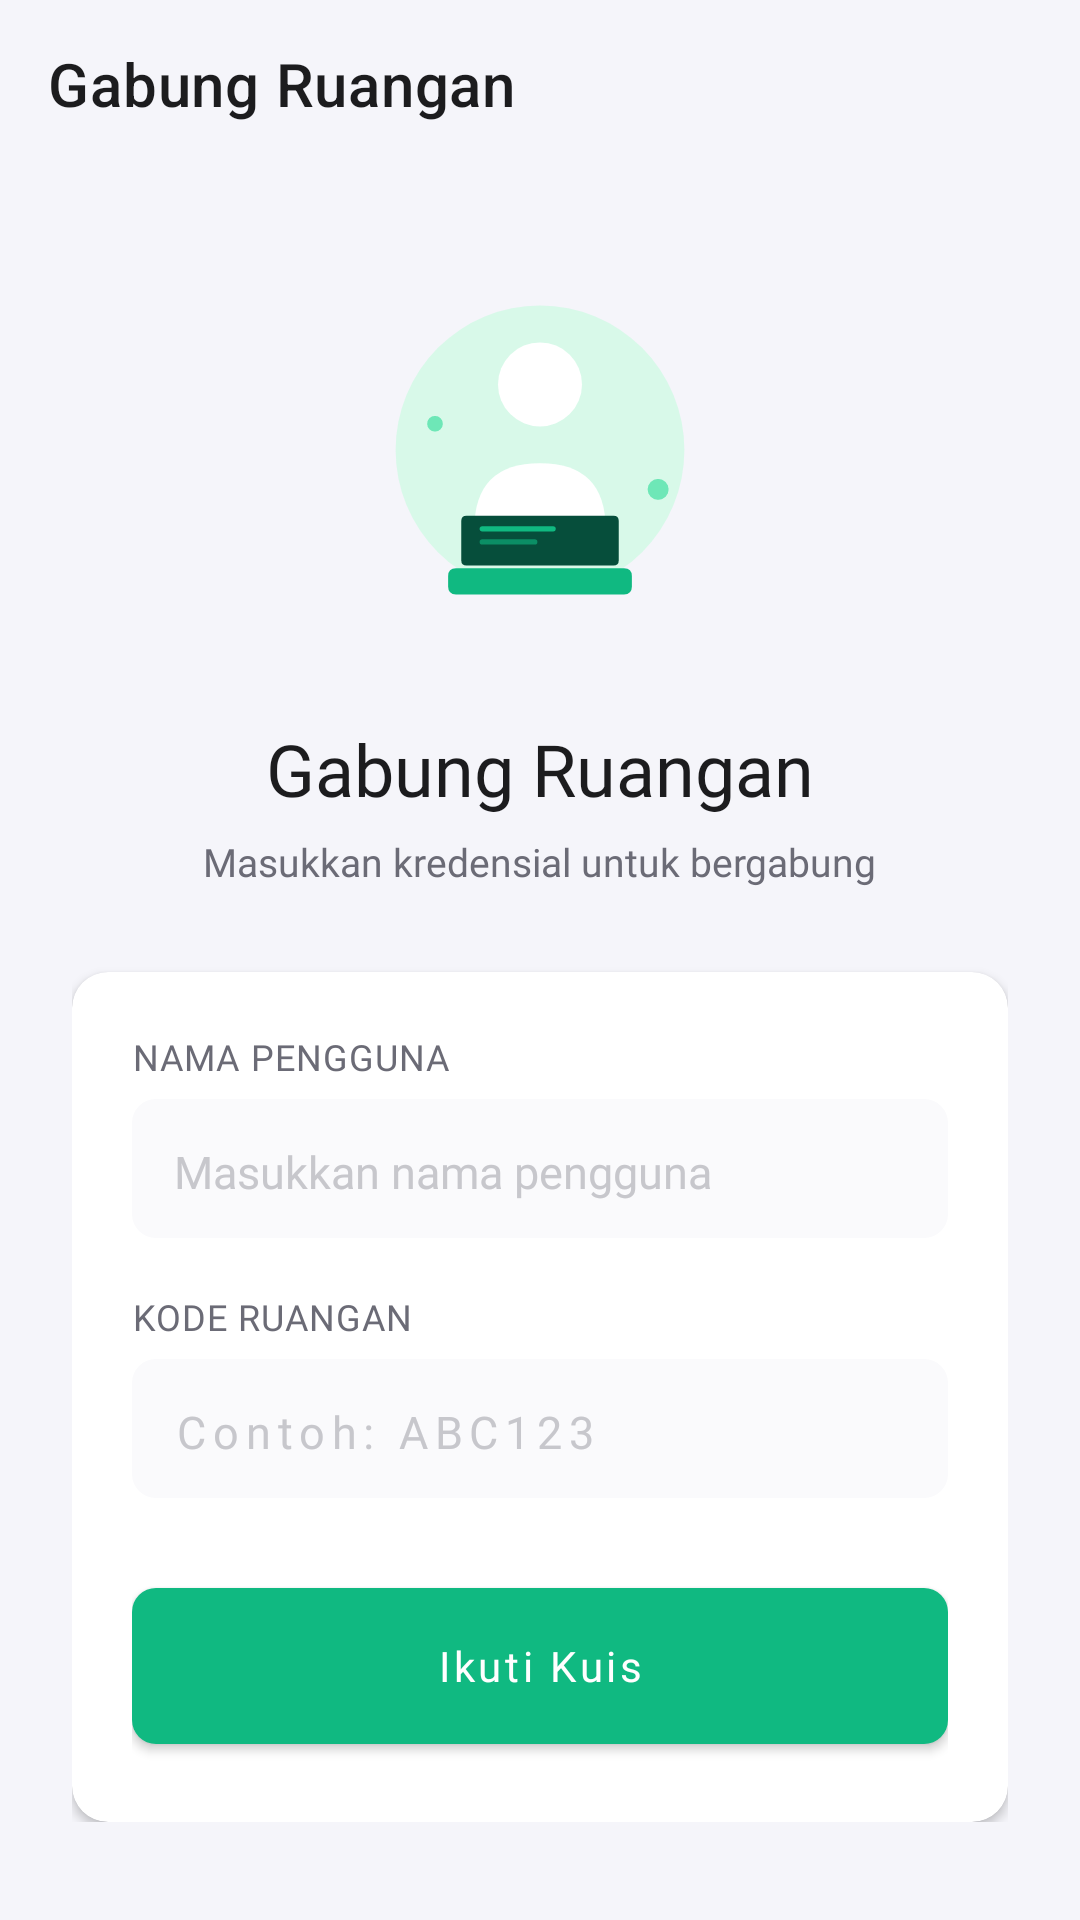

Named icons in this screenshot (1080 × 1920) and their centers, [x,y]:
Ilustrasi siswa: [540,450]
